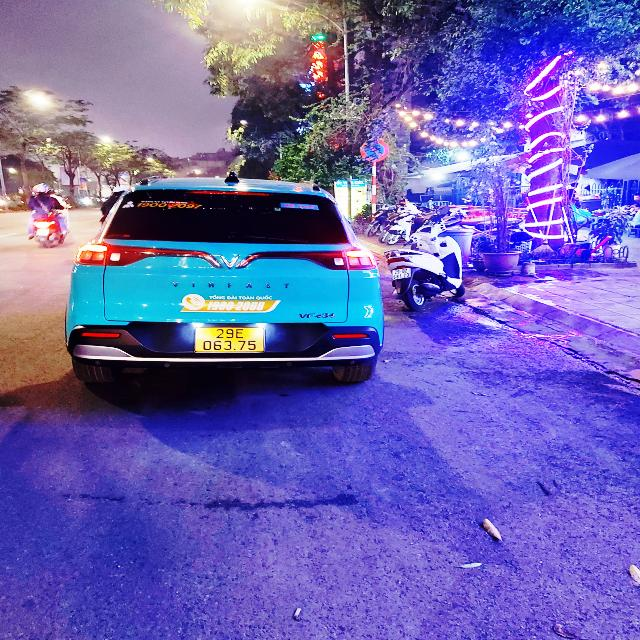license_plate: (193, 326, 270, 356), (392, 268, 413, 282)
